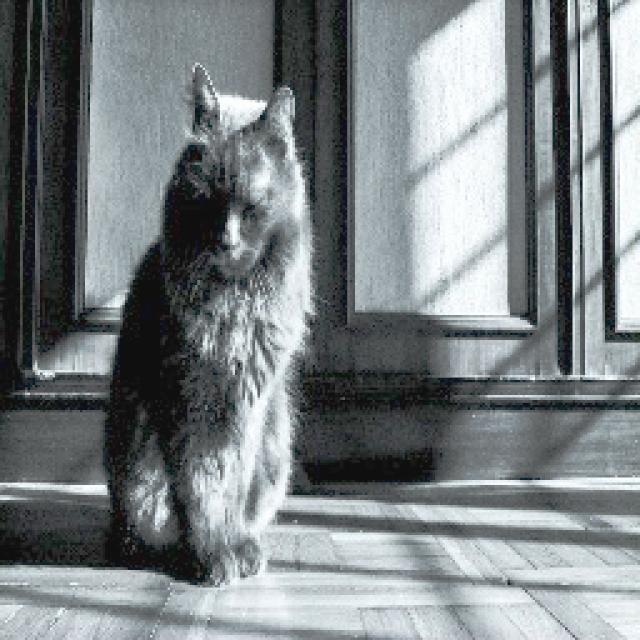cat: (100, 66, 315, 587)
